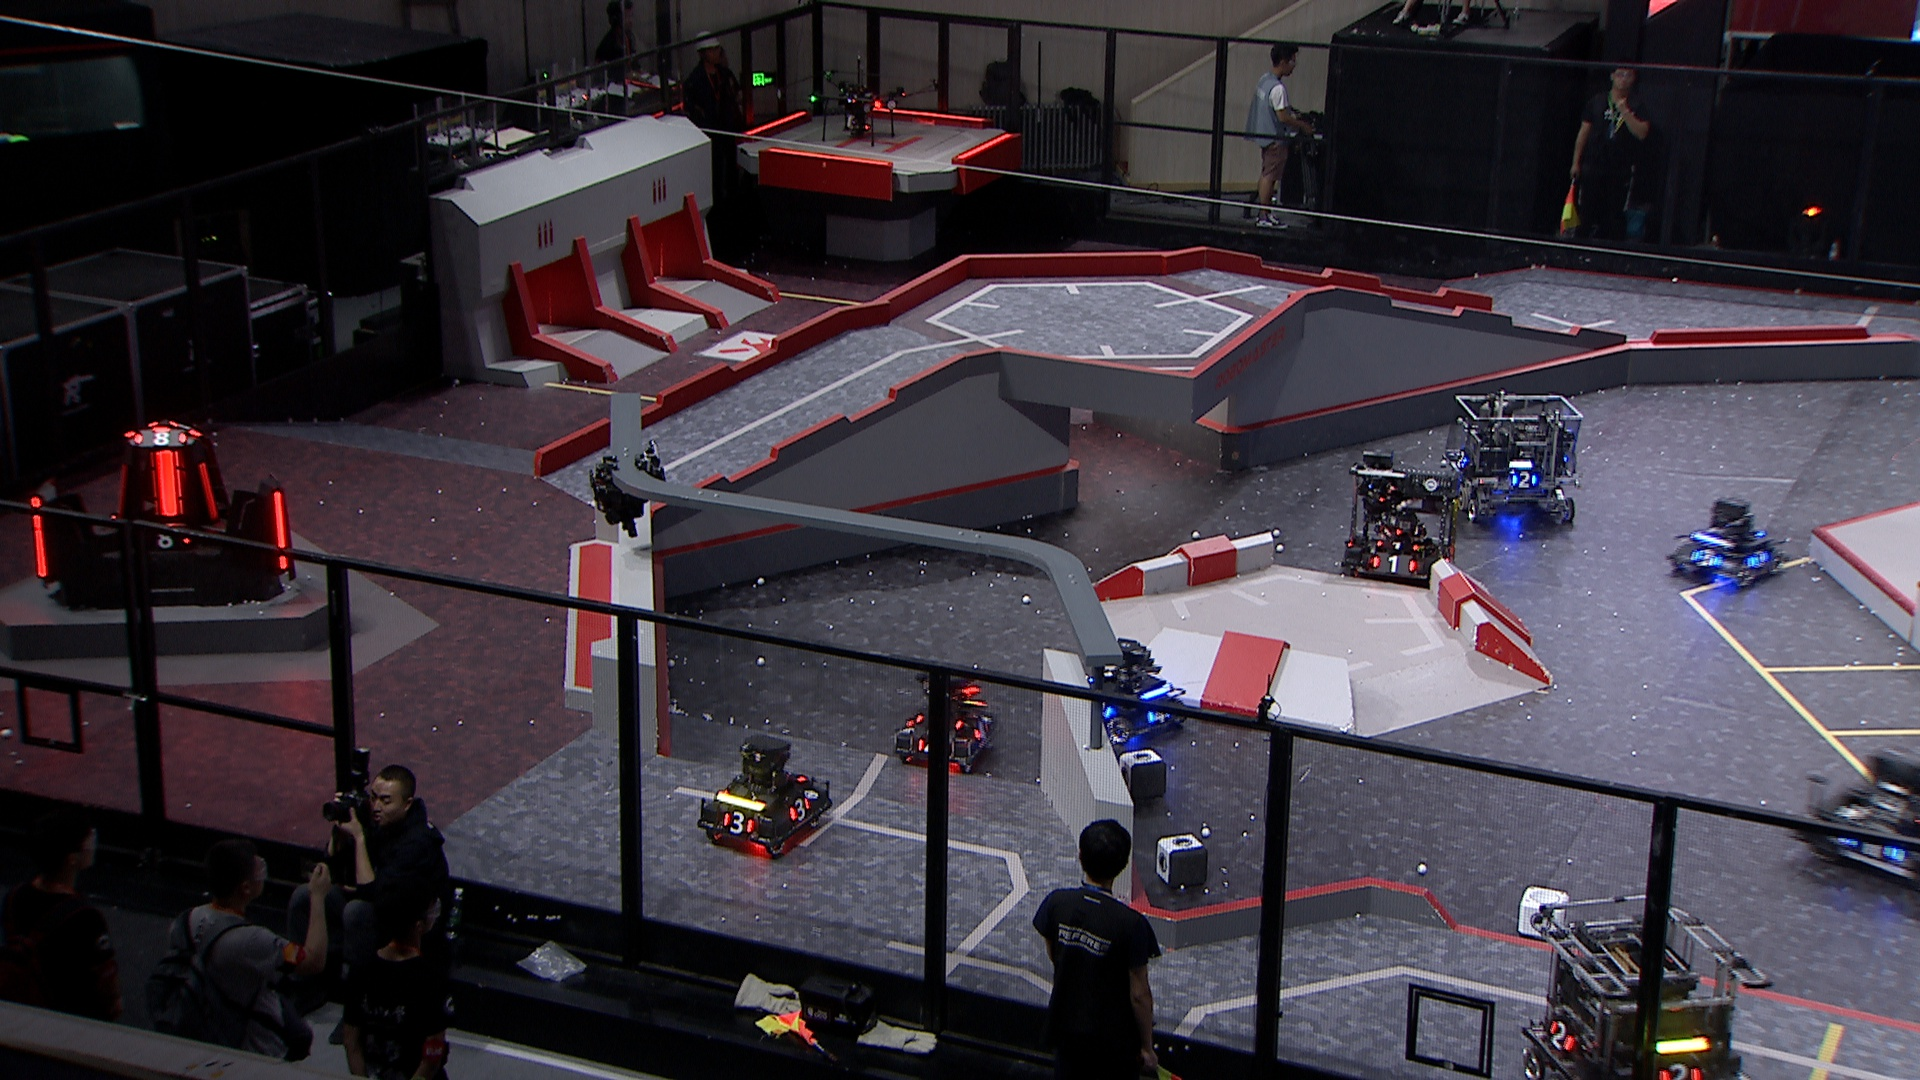armor: (149, 448, 185, 520), (272, 489, 294, 571), (1841, 835, 1902, 862), (29, 498, 49, 579), (195, 462, 222, 520), (109, 465, 131, 522), (721, 808, 760, 839), (129, 429, 191, 447), (1367, 553, 1415, 576), (150, 529, 193, 550), (1658, 1063, 1704, 1080), (785, 799, 814, 825), (1689, 549, 1727, 568), (1547, 1022, 1575, 1048), (1145, 705, 1174, 727), (1509, 469, 1538, 491), (1375, 541, 1420, 553), (971, 719, 992, 742), (1451, 450, 1472, 471), (1745, 549, 1766, 568)
base: (22, 419, 302, 613)
car: (1516, 889, 1774, 1080), (1437, 390, 1592, 529), (1340, 443, 1466, 585), (1799, 744, 1920, 891), (698, 732, 829, 855), (1077, 636, 1189, 745), (1665, 495, 1789, 591), (889, 666, 1004, 767)
watcher: (589, 440, 667, 541)
